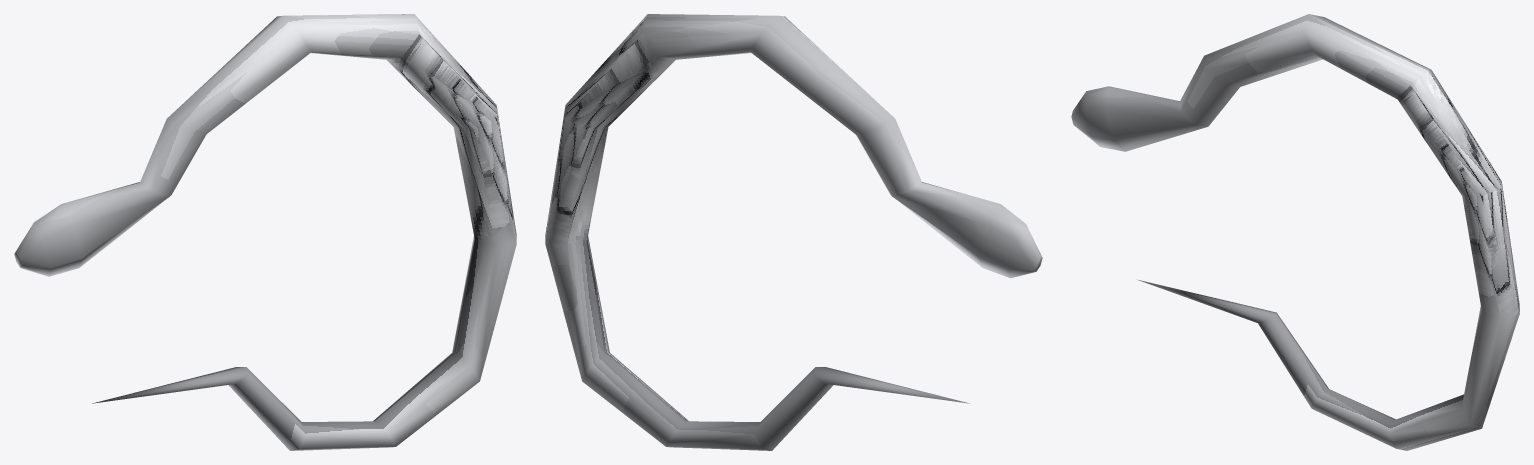
Rendered from snake_000001.obj.
The picture shows the model from 3 angles, left to right: view 1: azimuth 30°, elevation 25°; view 2: azimuth 150°, elevation 25°; view 3: azimuth 330°, elevation 25°; orthographic projection. The views are drawn at different scales.
Visible parts, largest first — view 1: Cylinder; view 2: Cylinder; view 3: Cylinder.
Boxes of the visible parts, x1,y1,x2,y2 form: Cylinder: (14,14,516,450); Cylinder: (545,14,1042,450); Cylinder: (1071,14,1519,450).
Bounding box in the file's own units: 4.52 × 3.98 × 0.3671.
